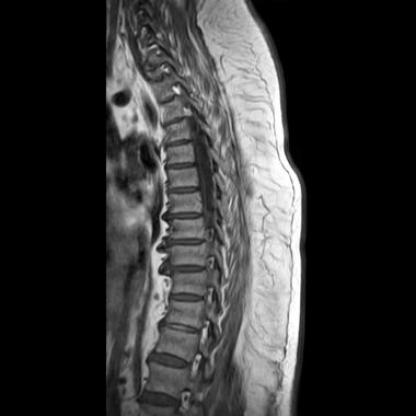Osteophytesrotation: (138, 30, 214, 416)
